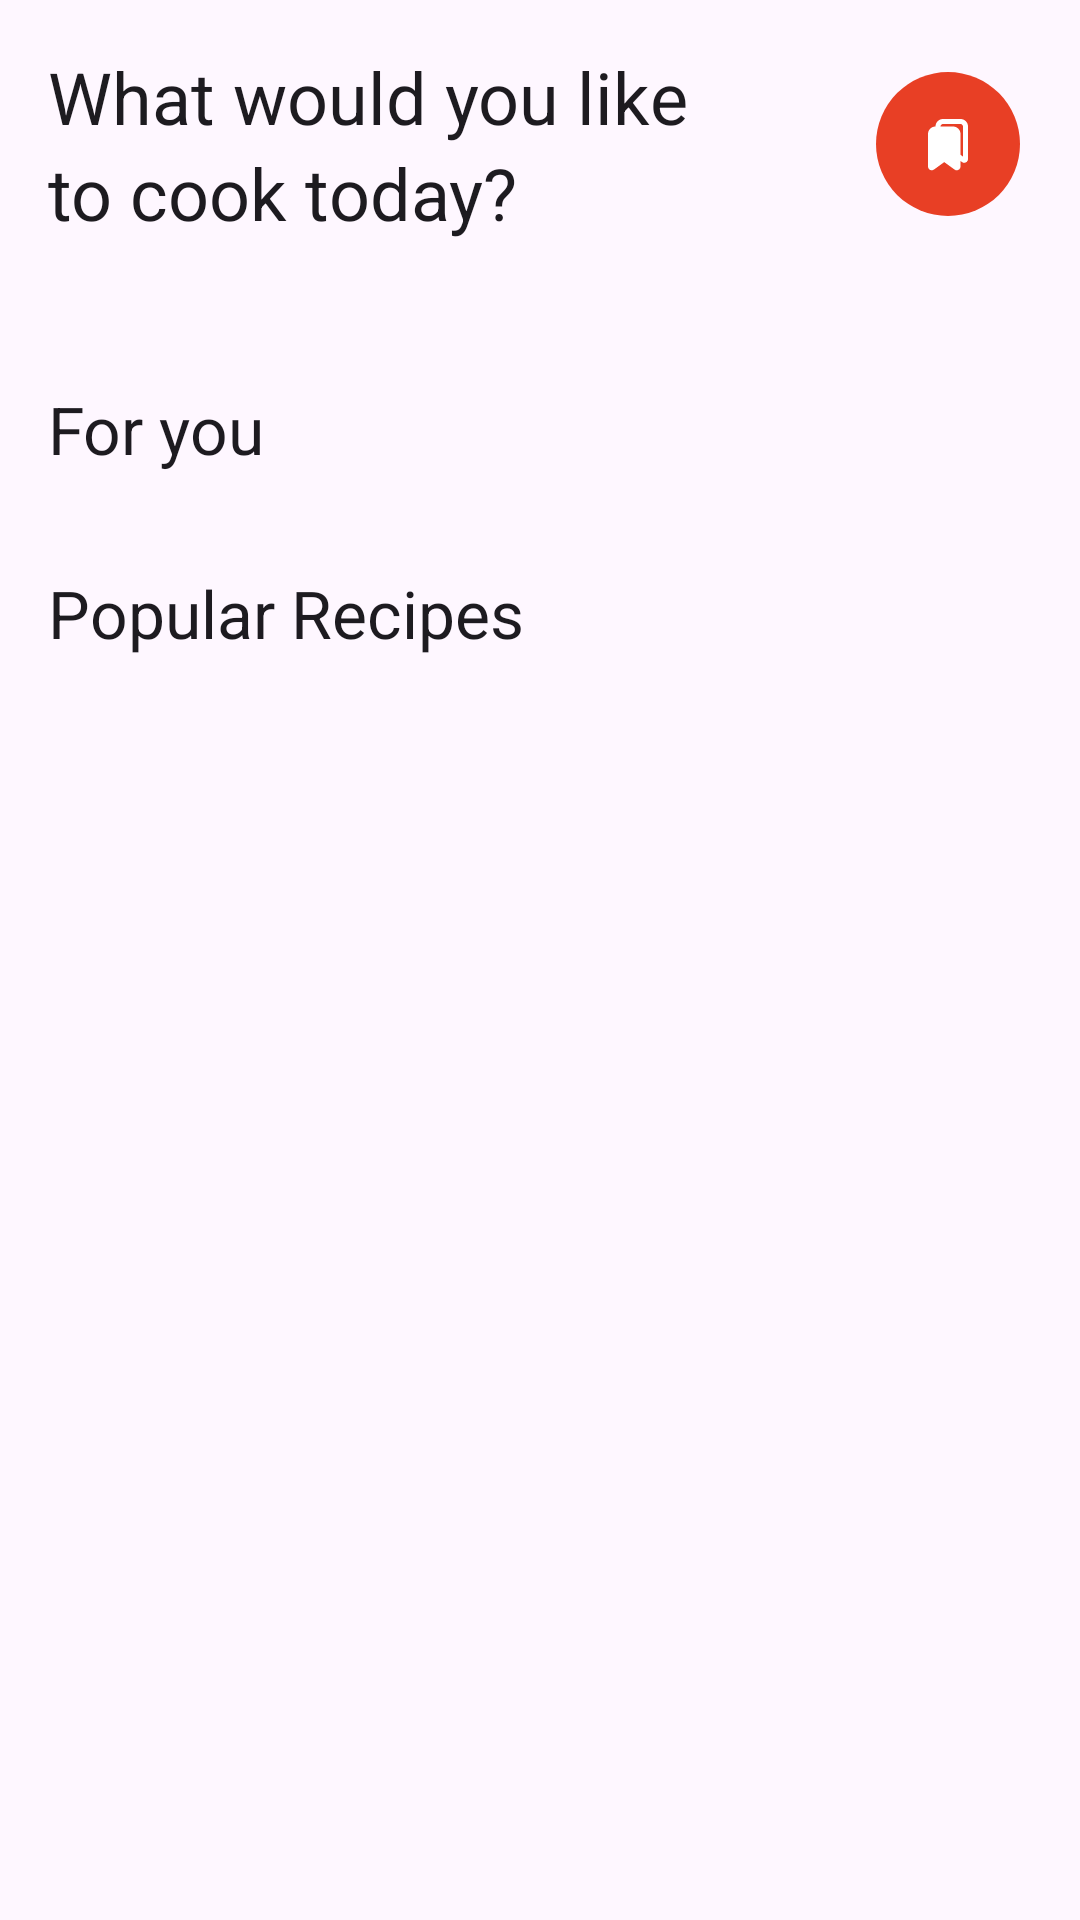

Where to tap for icons on this 1080 x 1920 app screen, as [x,y]:
bookmarks: [948,144]
